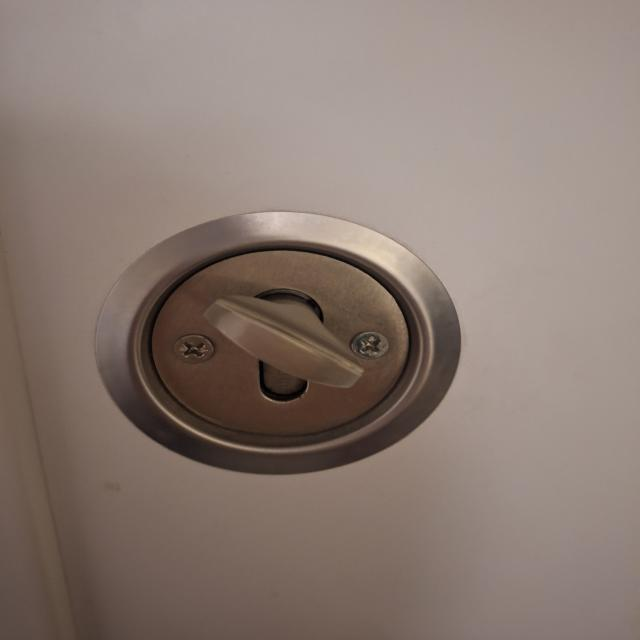Phillips: (349, 331, 388, 359)
Pozidriv: (169, 335, 216, 364)
